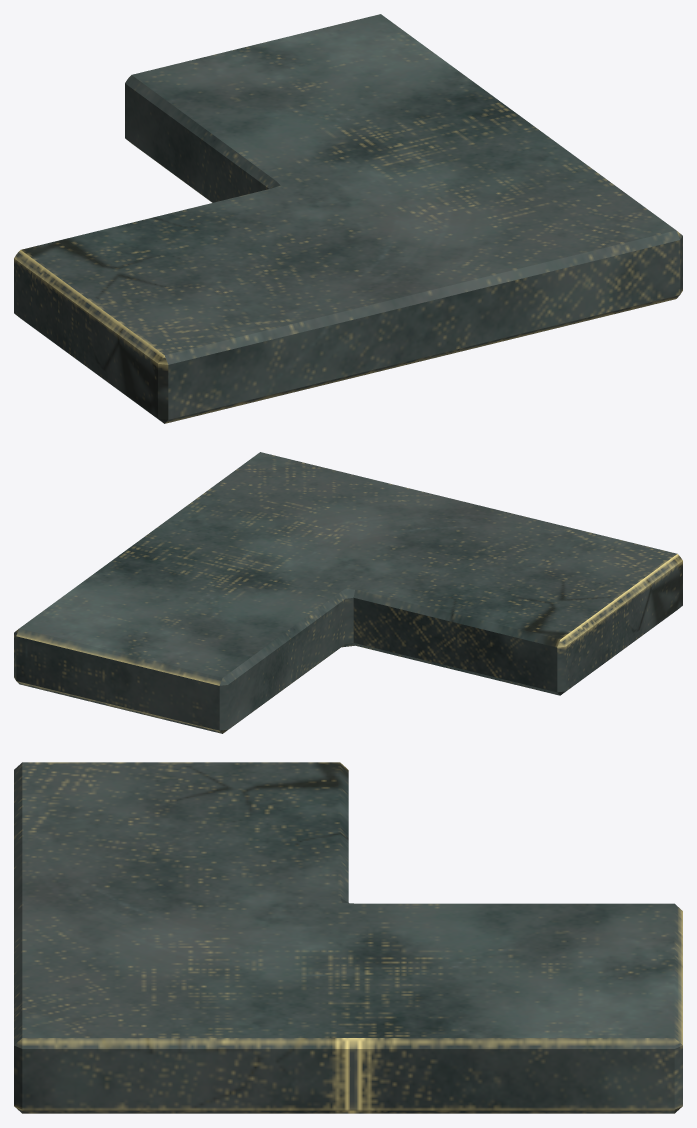
The model's file is Step_01_Corner_Art.fbx.
The picture shows the model from 3 angles, top to bottom: view 1: azimuth 30°, elevation 25°; view 2: azimuth 150°, elevation 25°; view 3: azimuth 270°, elevation 25°; orthographic projection. The views are drawn at different scales.
Parts seen in each view (by area): view 1: Step_01_Corner; view 2: Step_01_Corner; view 3: Step_01_Corner.
Boxes of the visible parts, x1,y1,x2,y2 form: Step_01_Corner: (14, 14, 682, 423); Step_01_Corner: (14, 452, 682, 733); Step_01_Corner: (14, 762, 682, 1113).
Size of the model in its own units: 200 by 25 by 200.
